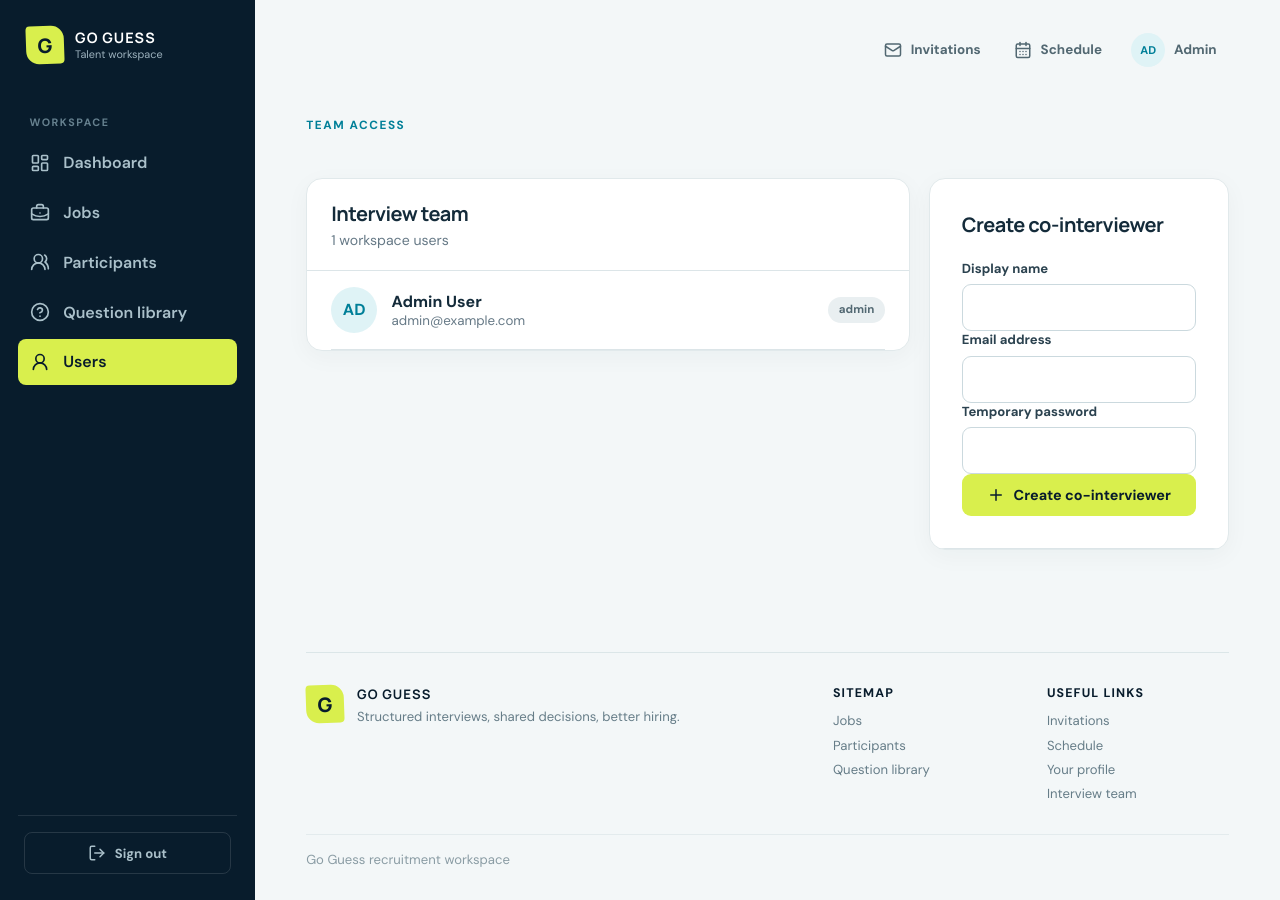
Test: Go Guess frontend › lists users and creates a co-interviewer
expect the text "Admin User" is shown: met, box [392,291,482,312]
Step 1. Type "Sam Lee" into the field labelled "Display name" → (1079, 308), box [962,284,1196,331]
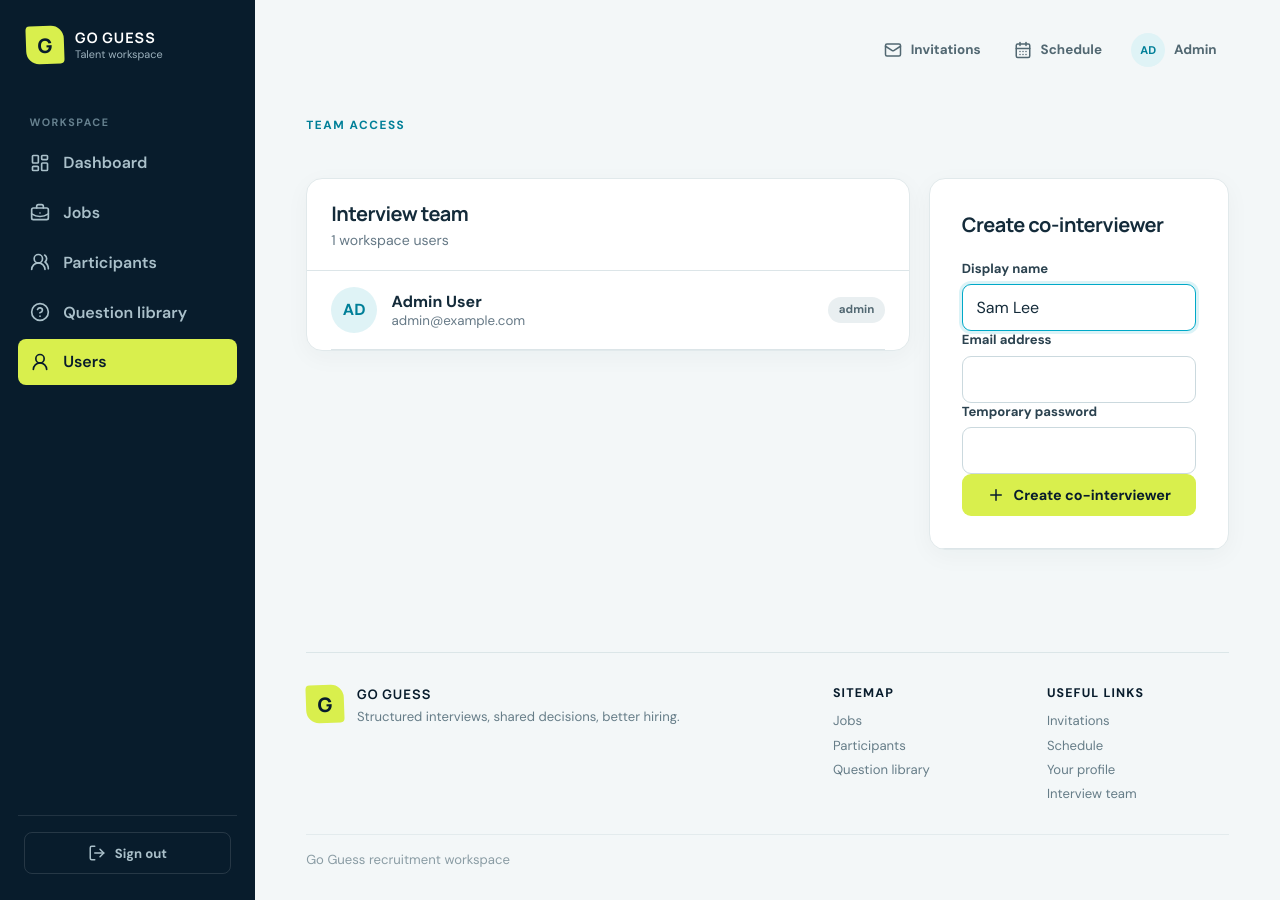
Step 2. Type "sam@example.com" into the field labelled "Email address" → (1079, 379), box [962,356,1196,403]
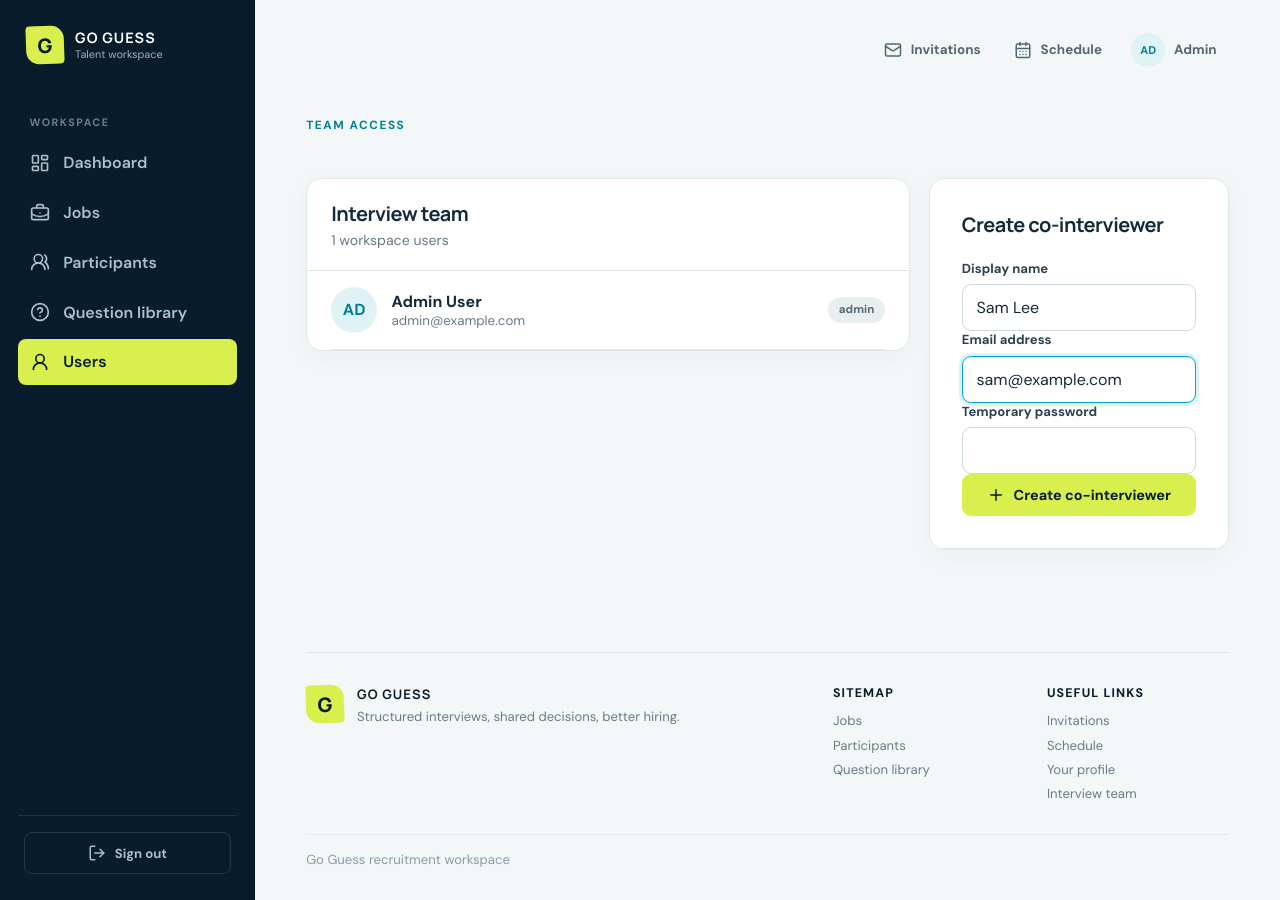
Step 3. Type "password123" into the password field labelled "Temporary password" → (1079, 451), box [962,427,1196,474]
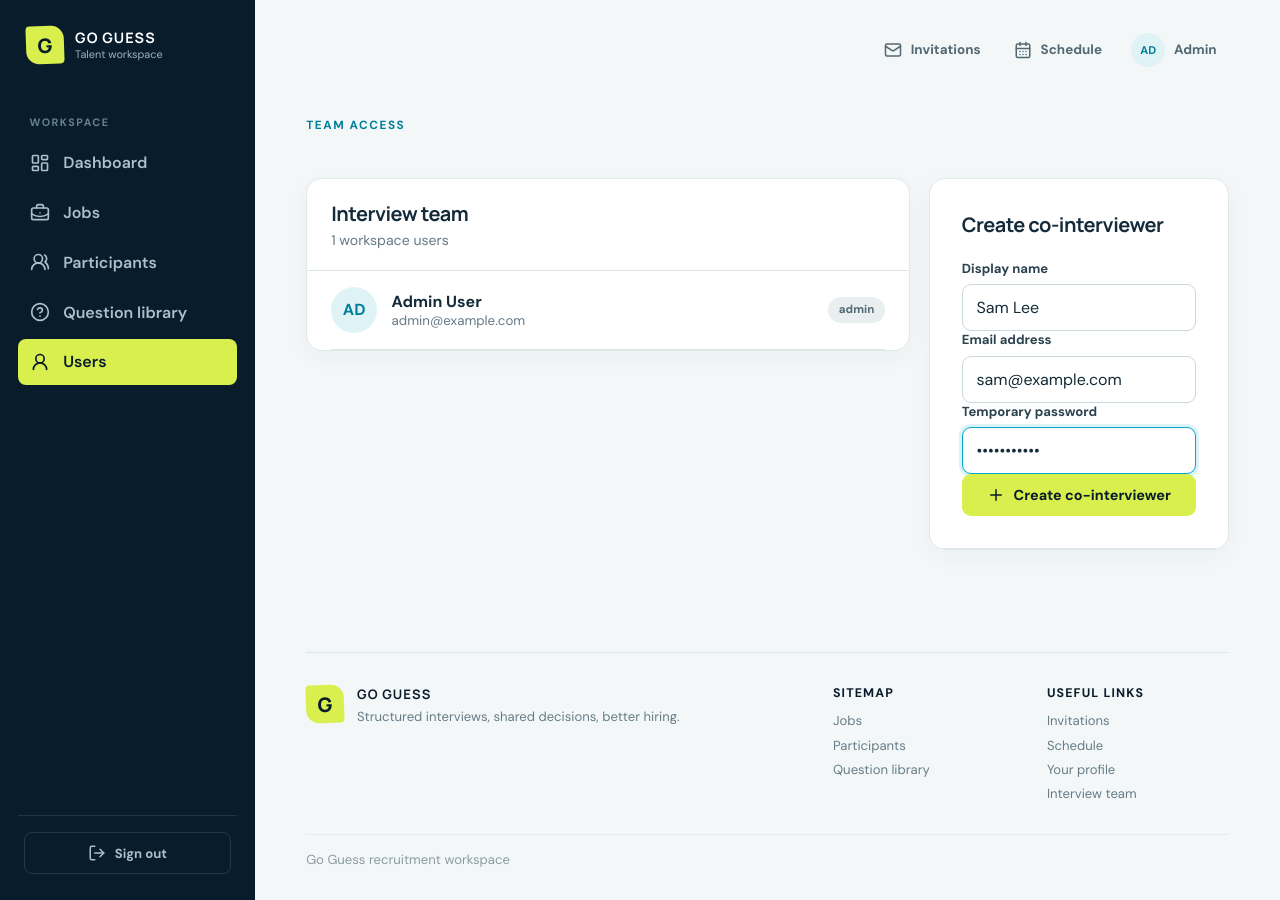
Step 4. Click the button "Create co-interviewer" → (1079, 496), box [962,474,1196,516]
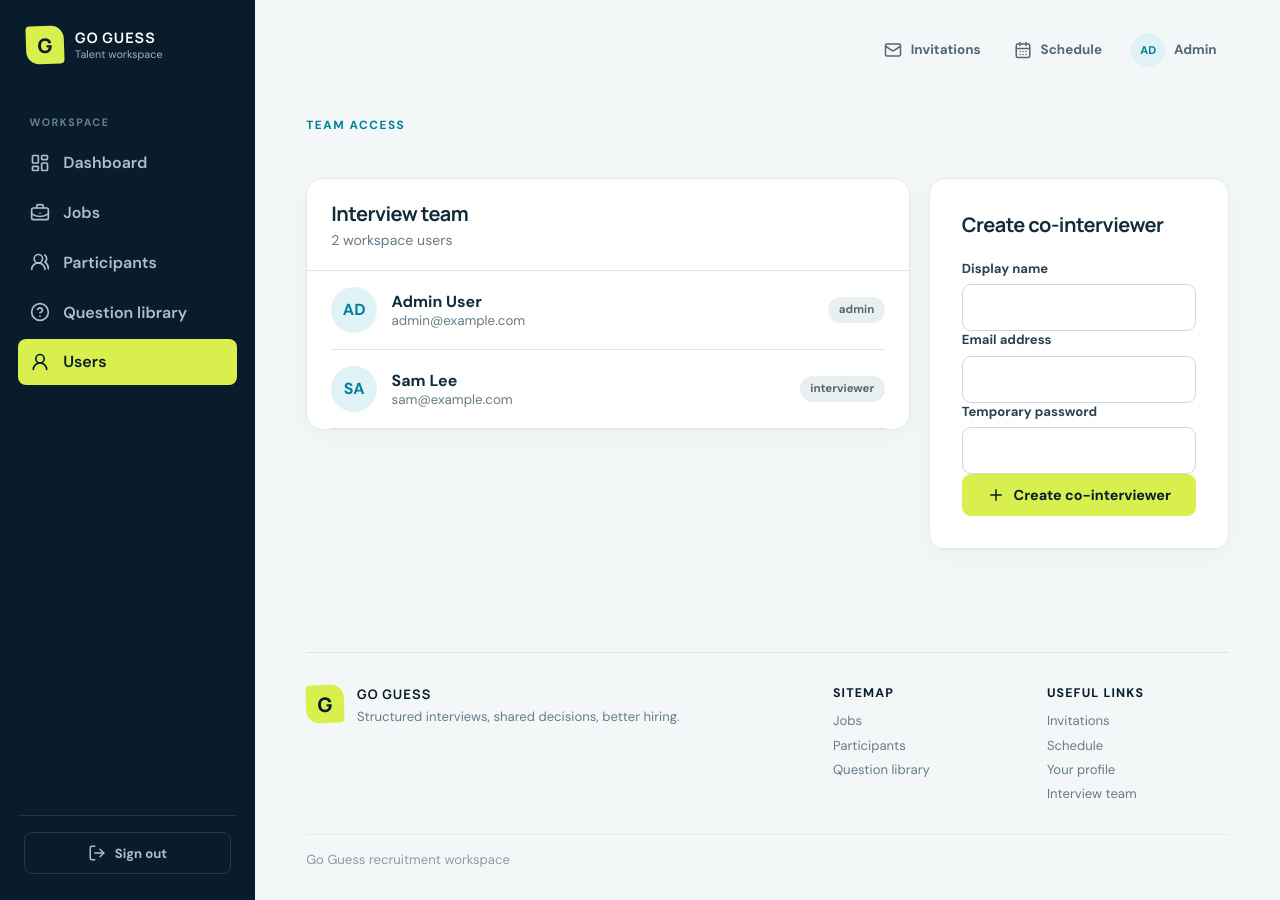
expect the text "Sam Lee" is shown: met, box [392,370,457,391]
